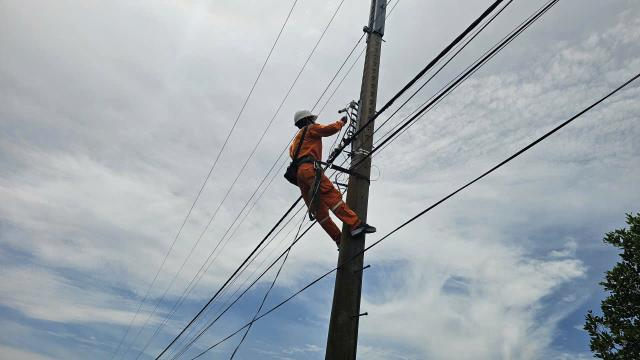gloves: (337, 112, 351, 125)
harness: (284, 154, 327, 165)
helmet: (289, 106, 318, 125)
shoes: (338, 220, 381, 235)
